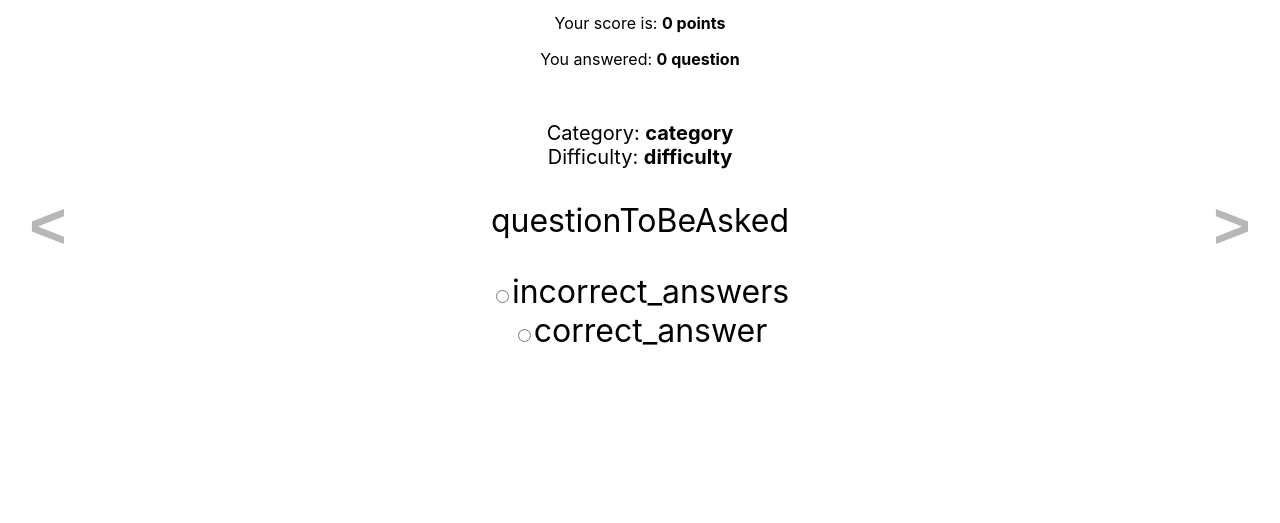
Test case: enables the PREV button if second+ question
The image size is (1280, 523).
Click the radio button labelled "incorrect_answers". click: (502, 296)
box: [496,290,509,303]
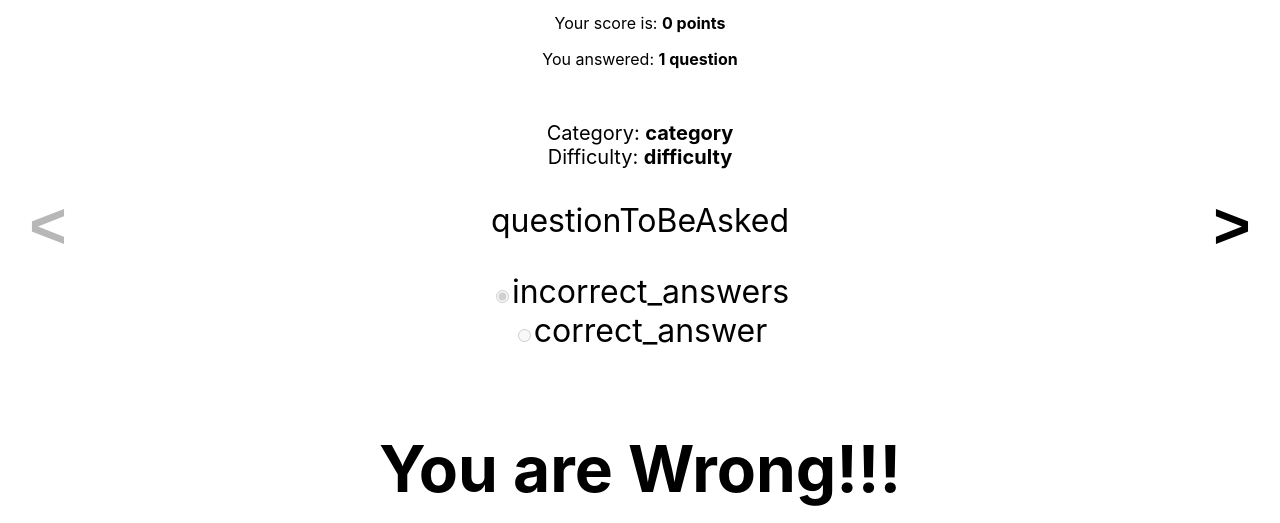
Click the button ">". click: (1232, 226)
box: [1200,85,1264,366]
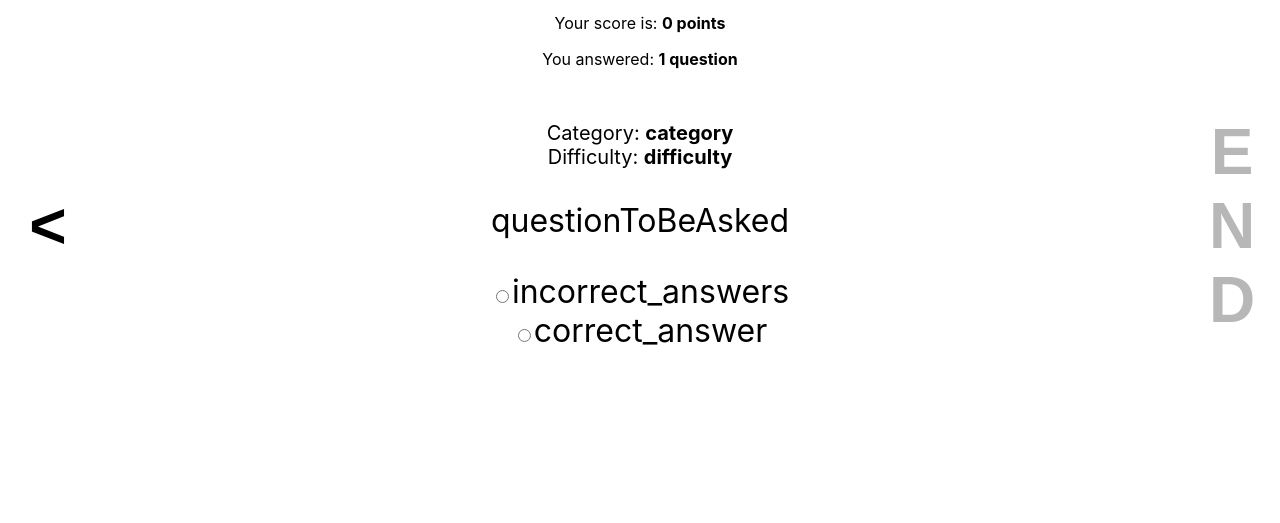
Check: the button "<" is enabled, box [16,85,80,366]
